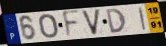6: (19, 15, 37, 42)
D: (105, 8, 128, 35)
F: (61, 9, 81, 40)
I: (137, 6, 147, 32)
O: (38, 13, 60, 40)
V: (80, 8, 102, 37)
